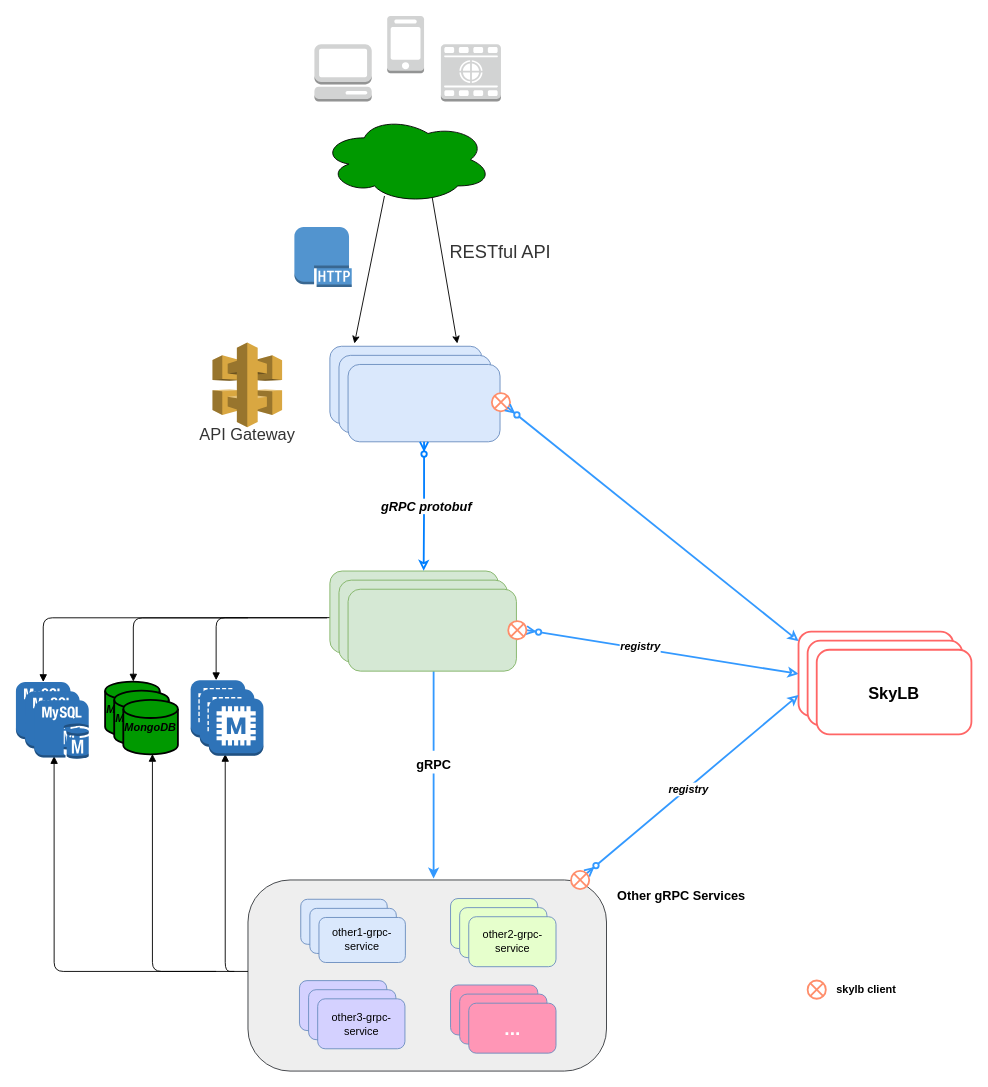
The diagram is 988 pixels wide and 1087 high, and some of its shapes have lost their labels. Each missing label, with the centre of its shape:
Ease Gateway: point 423,403
gRPC Server: point 431,629
HTTP/1.1: point 322,256
Nginx: point 406,159
